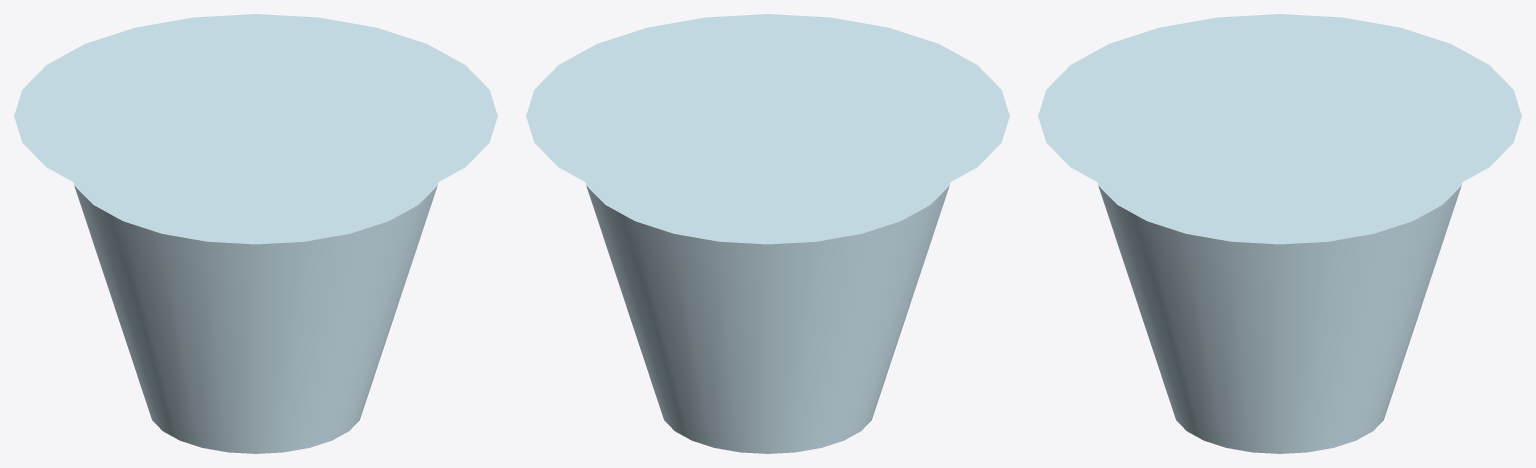
The model's file is aurora_shader.gltf.
3 renders of one model, left to right at view 1: azimuth 30°, elevation 25°; view 2: azimuth 150°, elevation 25°; view 3: azimuth 270°, elevation 25°, orthographic.
Visible parts, largest first — view 1: aurora_shader; view 2: aurora_shader; view 3: aurora_shader.
Boxes of the visible parts, x1,y1,x2,y2 form: aurora_shader: [14, 14, 497, 453]; aurora_shader: [526, 14, 1009, 453]; aurora_shader: [1038, 14, 1521, 453].
Bounding box in the file's own units: 0.9 × 0.6 × 0.9.
